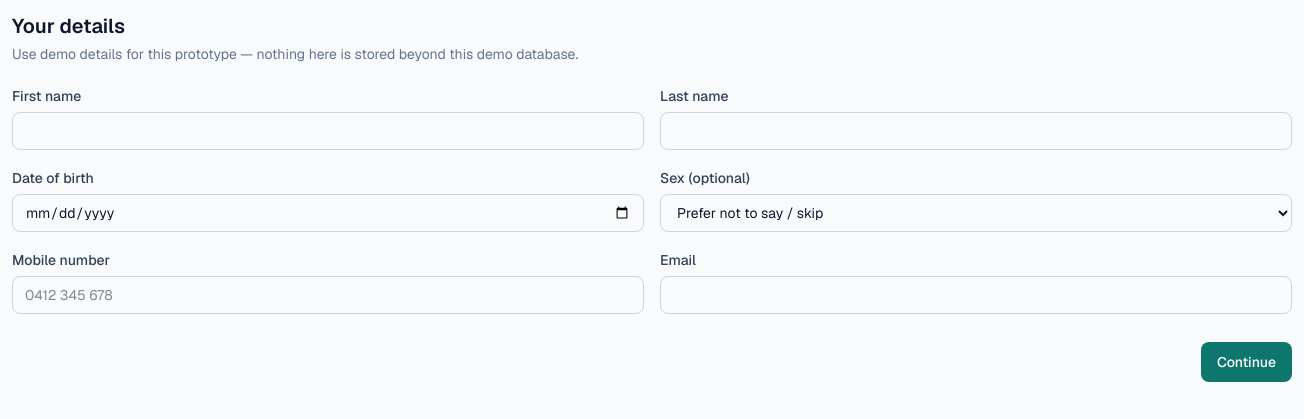
Test: validation prompt › explains a bad value when the patient leaves the field, not only on submit
This screenshot has width=1304, height=419.
Type "0412.345.678" into the field labelled "Mobile number".
click(328, 295); type("0412.345.678")  # box [12, 276, 644, 314]
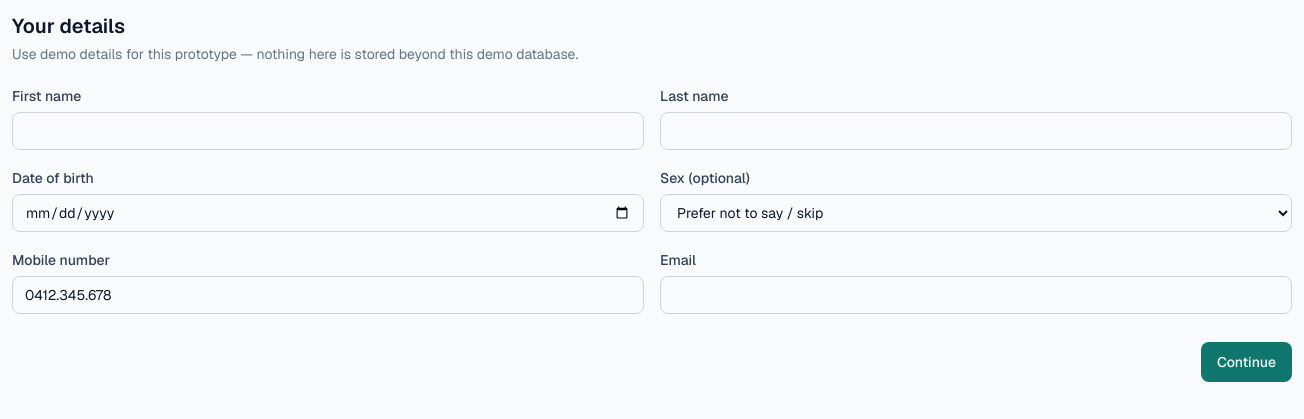
Leave the field labelled "Mobile number", box [12, 276, 644, 314]
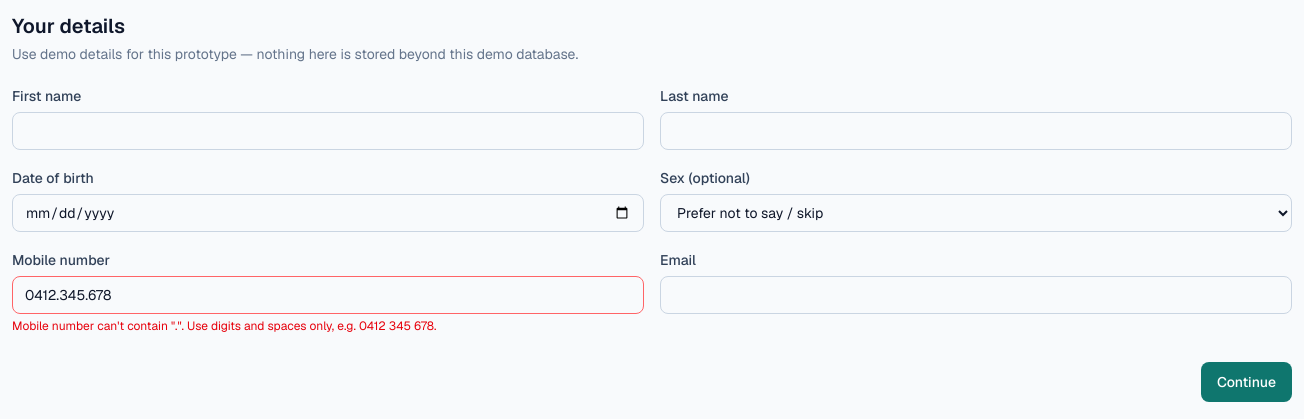
Check: the text "Mobile number can't contain \".\"" is shown, box [12, 318, 436, 334]
